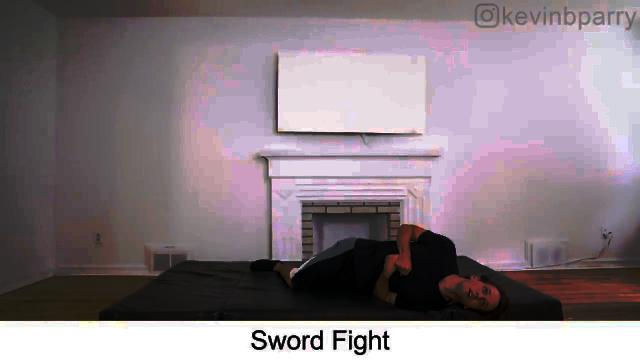jatuh: (245, 206, 510, 322)
